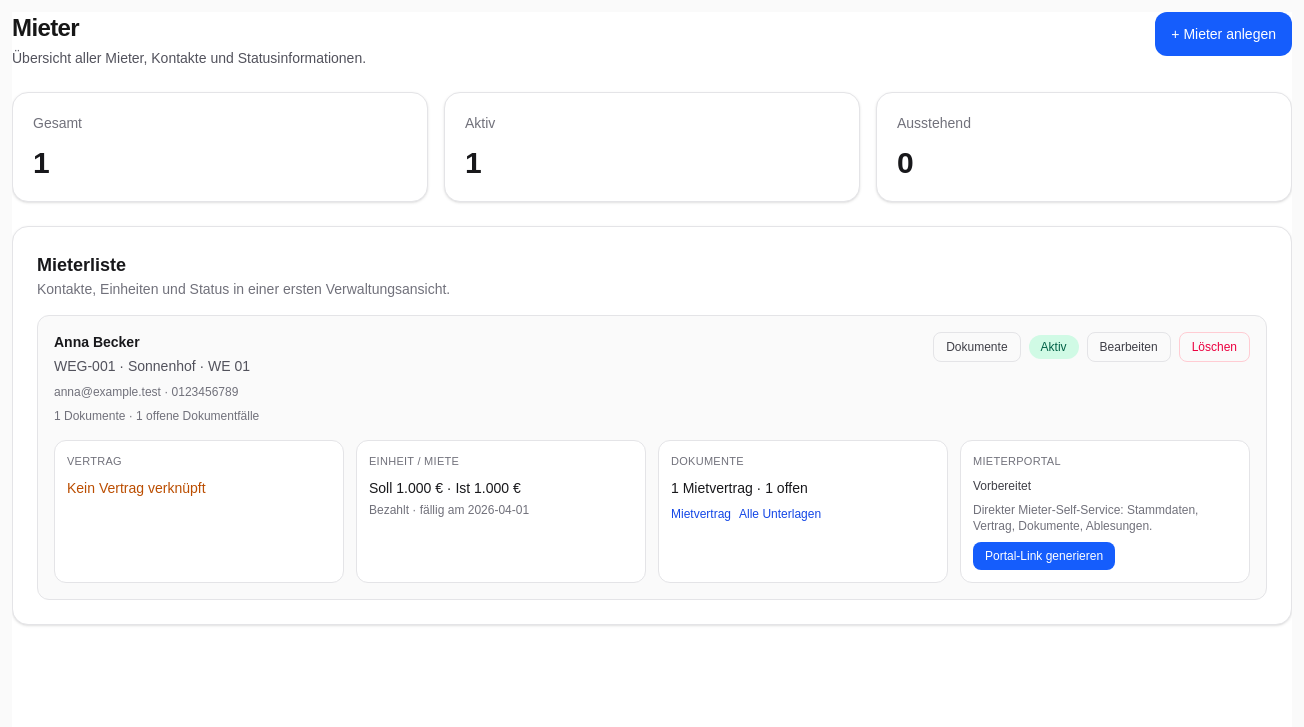
Scenario: TenantsModule › shows object display id and unit in the form after selecting object and unit
Click the button "+ Mieter anlegen".
click(1224, 34)  # box [1155,12,1292,56]
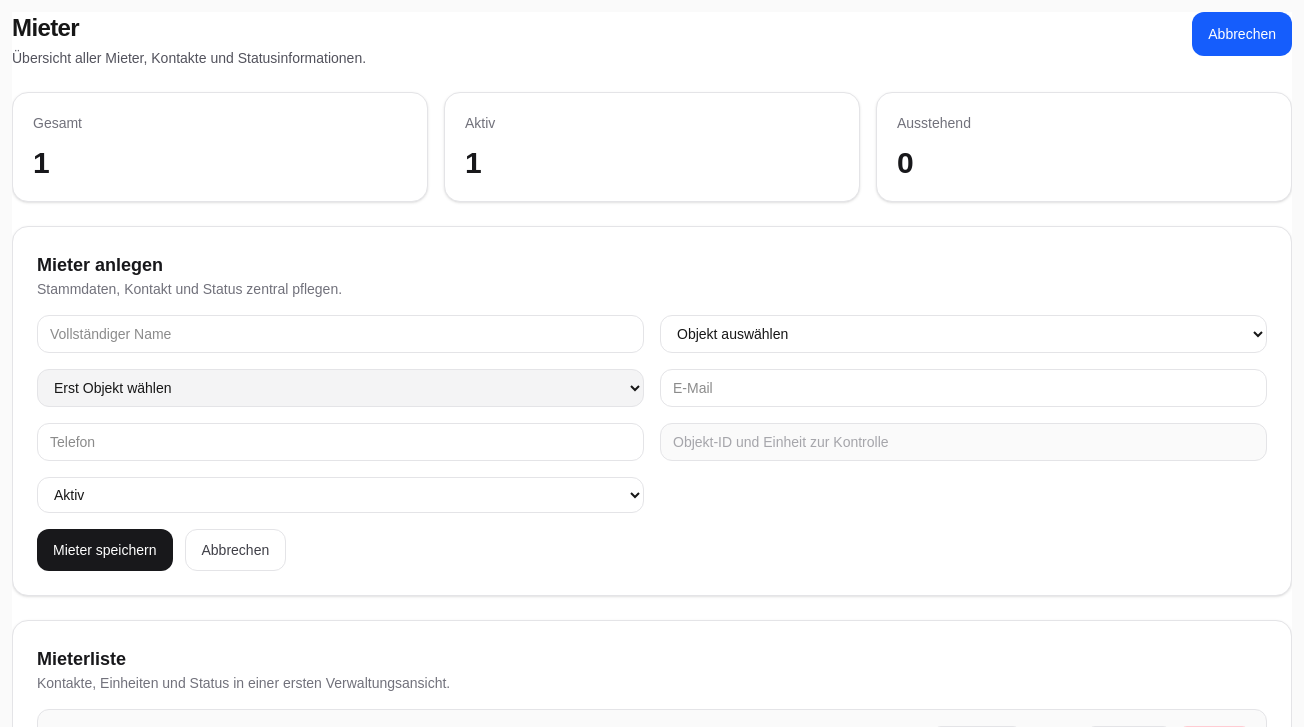
Select "WEG-001 · Sonnenhof" in the 1st dropdown showing "Objekt auswählen" at (964, 334), box [660,315,1267,353]
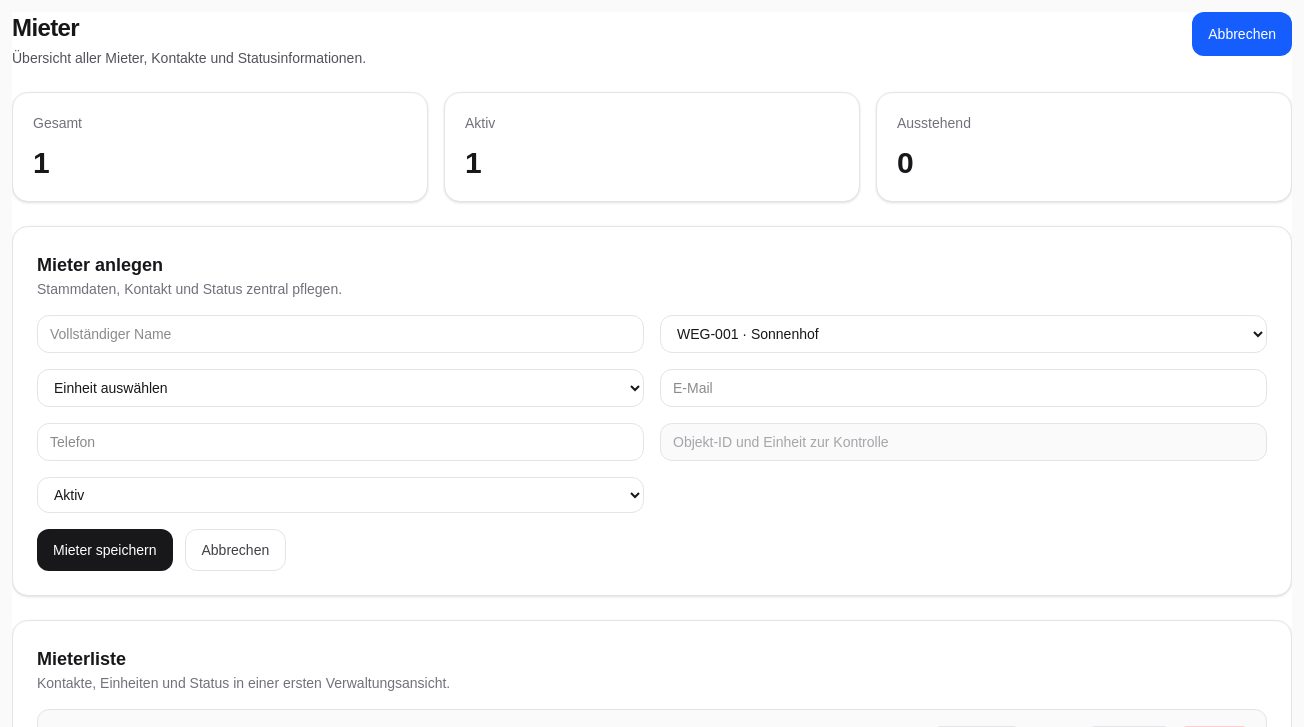
Select "WE 01" in the 2nd dropdown showing "Einheit auswählen" at (340, 388), box [37,369,644,407]
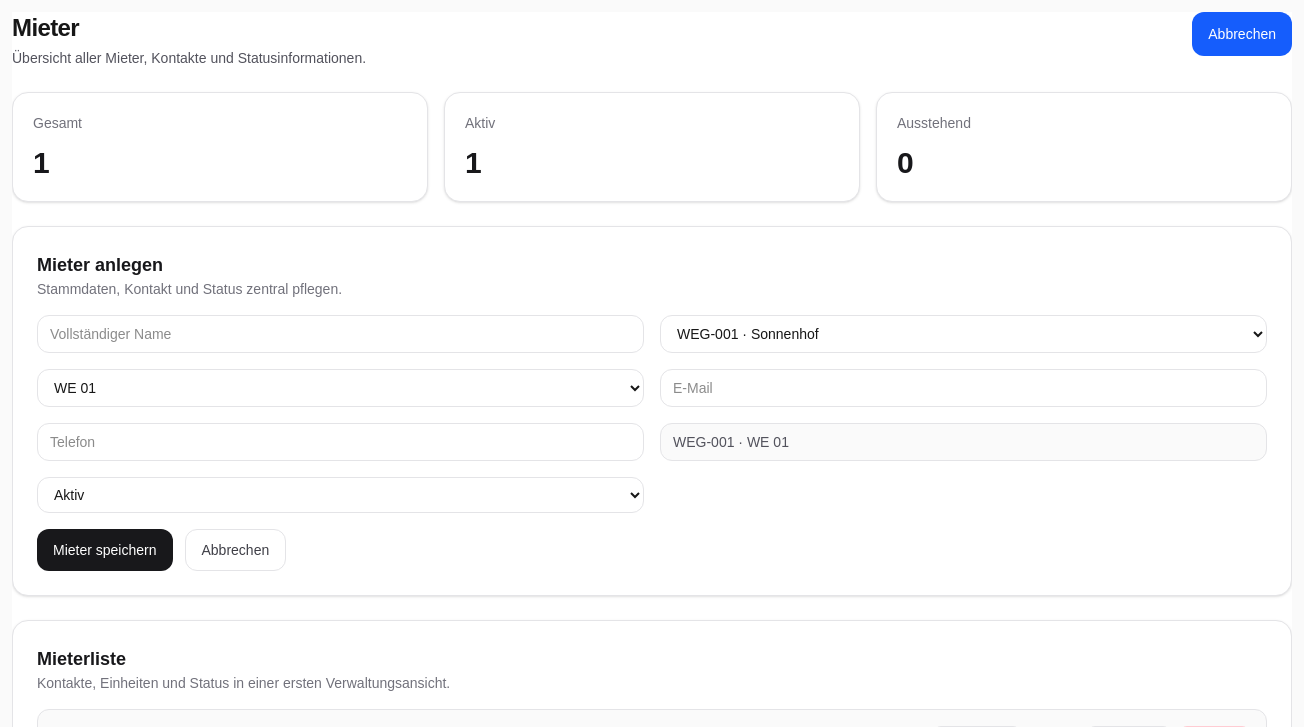
Expected: the field showing "WEG-001 · WE 01" is shown, [660,423,1267,461]
